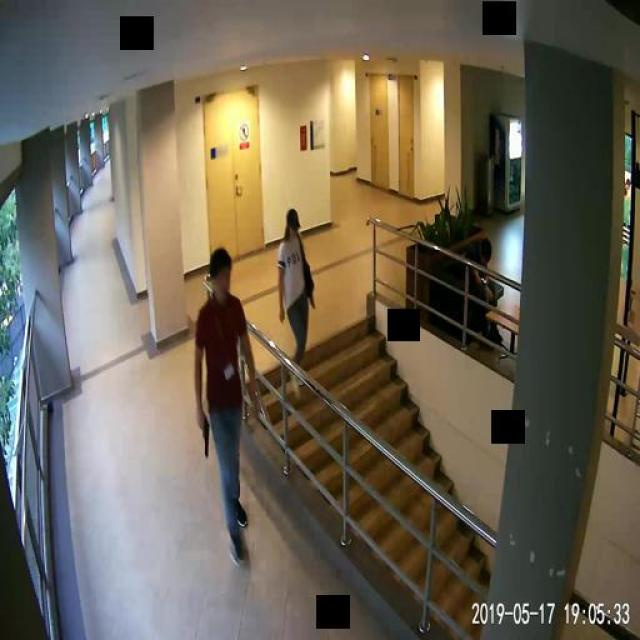gun: (196, 412, 208, 456)
